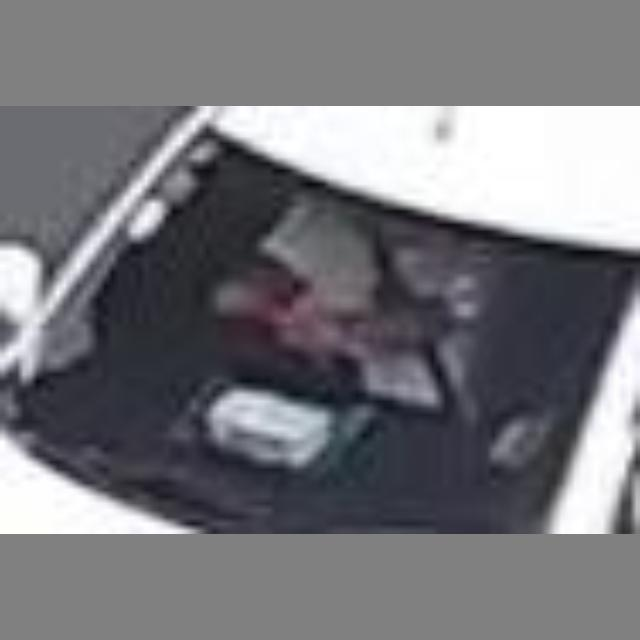pakai: (218, 174, 497, 460)
